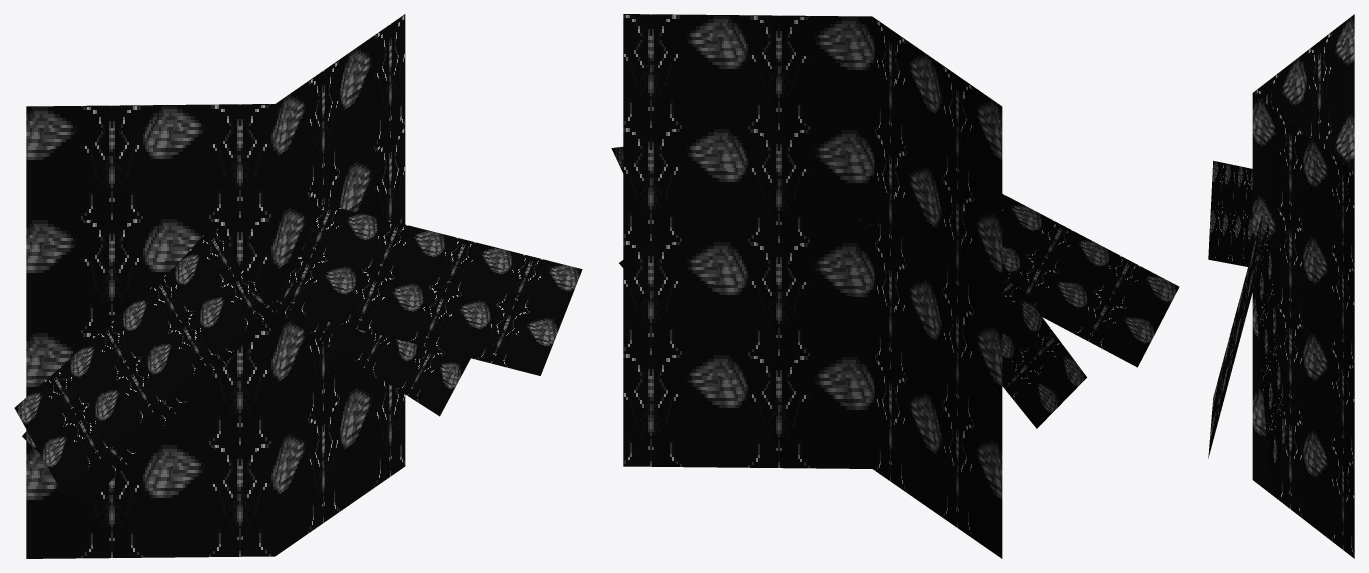
Rendered from 5034musi44_e.gltf.
The picture shows the model from 3 angles, left to right: view 1: azimuth 30°, elevation 25°; view 2: azimuth 150°, elevation 25°; view 3: azimuth 270°, elevation 25°; orthographic projection. The views are drawn at different scales.
Visible parts, largest first — view 1: 5034musi44_e; view 2: 5034musi44_e; view 3: 5034musi44_e.
Boxes of the visible parts, x1,y1,x2,y2 form: 5034musi44_e: [14, 14, 582, 558]; 5034musi44_e: [611, 14, 1179, 558]; 5034musi44_e: [1208, 14, 1354, 558].
Bounding box in the file's own units: 0.1113 × 0.0847 × 0.0291.
Materials: 1 (1 with a texture image).
